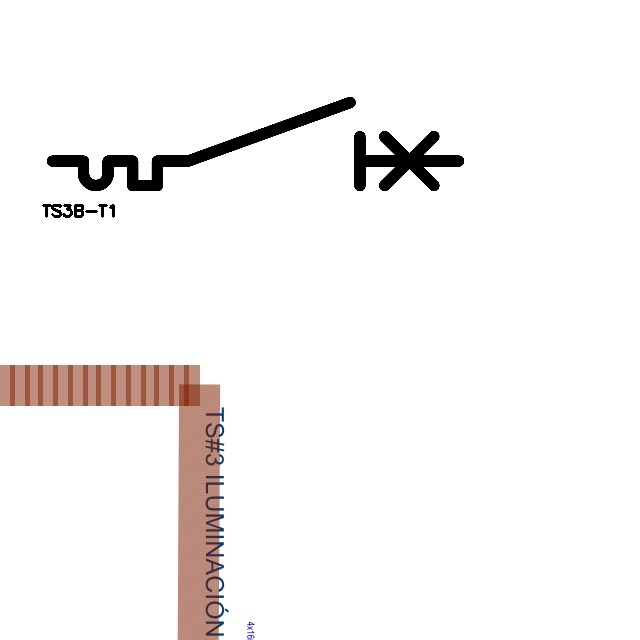interruptor_termomagnetico: (42, 92, 469, 196)
